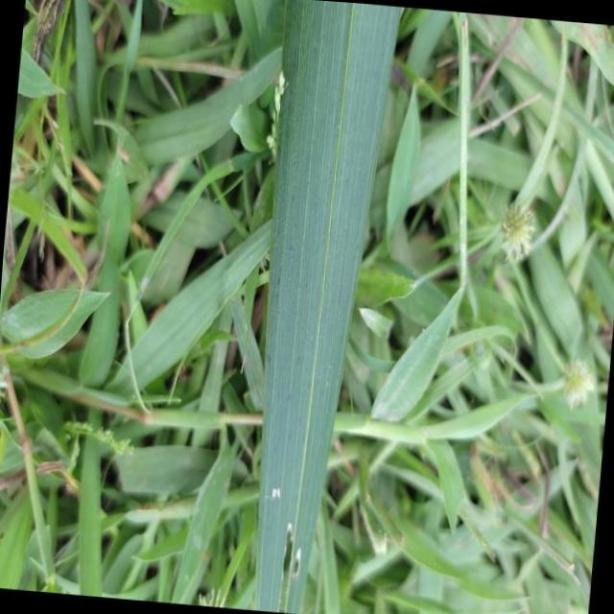Boron: (247, 1, 404, 614)
